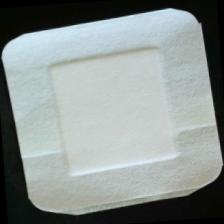Dressing: (1, 5, 224, 221)
